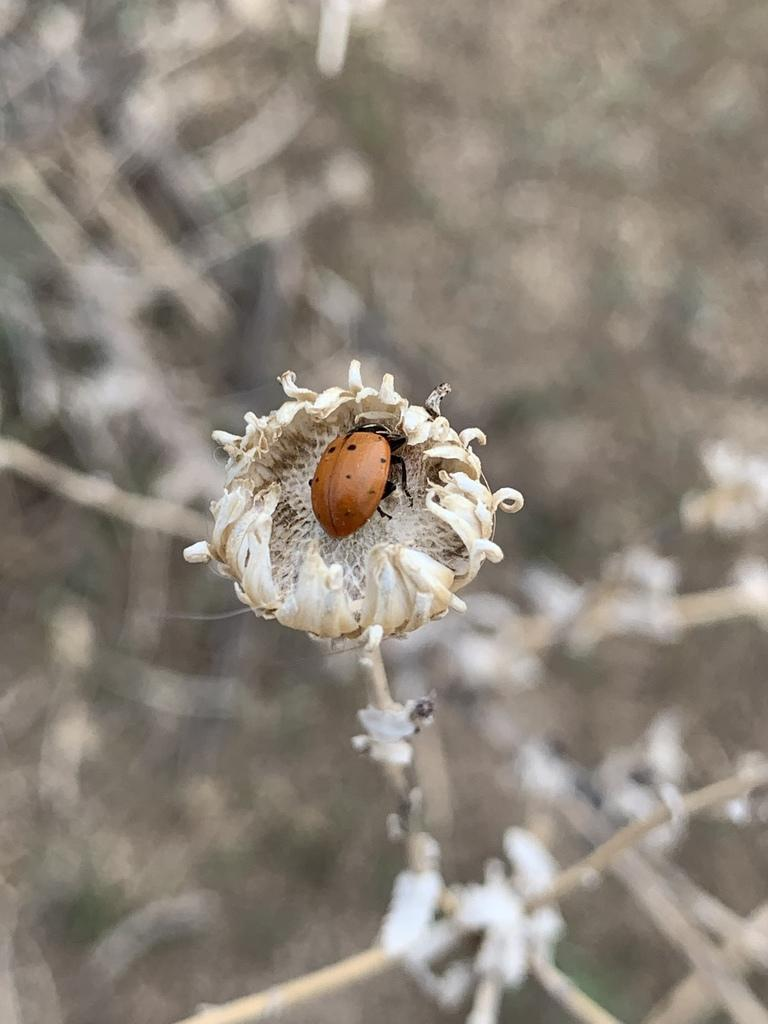ladybug: (309, 411, 419, 544)
